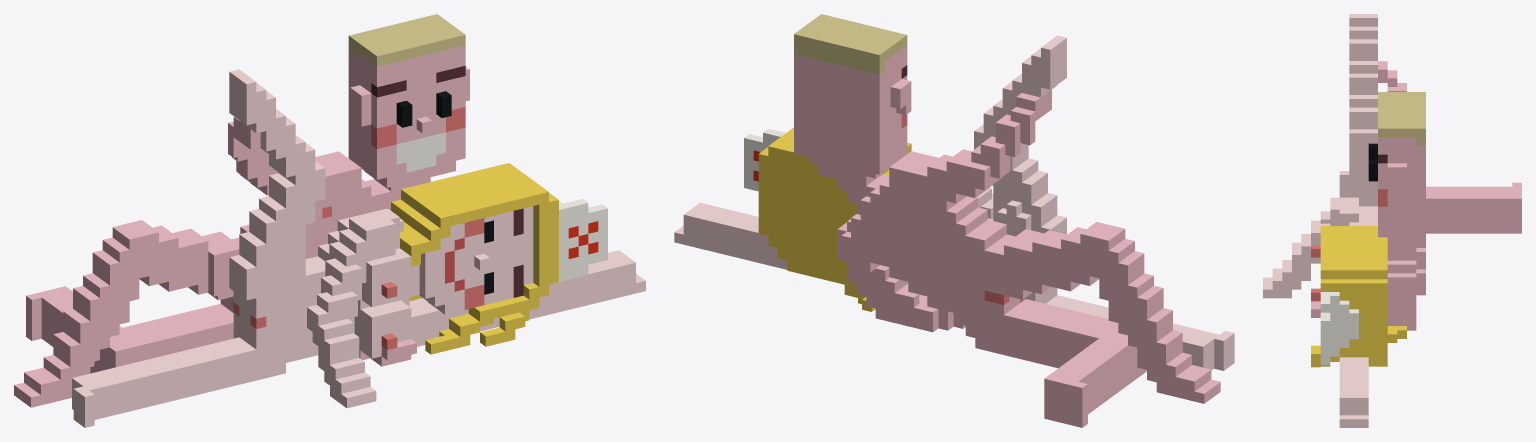
File: kama53.glb
3 views of the same model, side by side, from view 1: azimuth 30°, elevation 25°; view 2: azimuth 150°, elevation 25°; view 3: azimuth 270°, elevation 25° (orthographic). The views are drawn at different scales.
Parts seen in each view (by area): view 1: Node; view 2: Node; view 3: Node.
Part boxes in pixels (x1,y1,x2,y2): Node: [14, 14, 645, 427]; Node: [674, 14, 1234, 427]; Node: [1263, 14, 1521, 427].
Size of the model in its own units: 5.9 by 2.9 by 2.7.
1 material, 1 textured.
